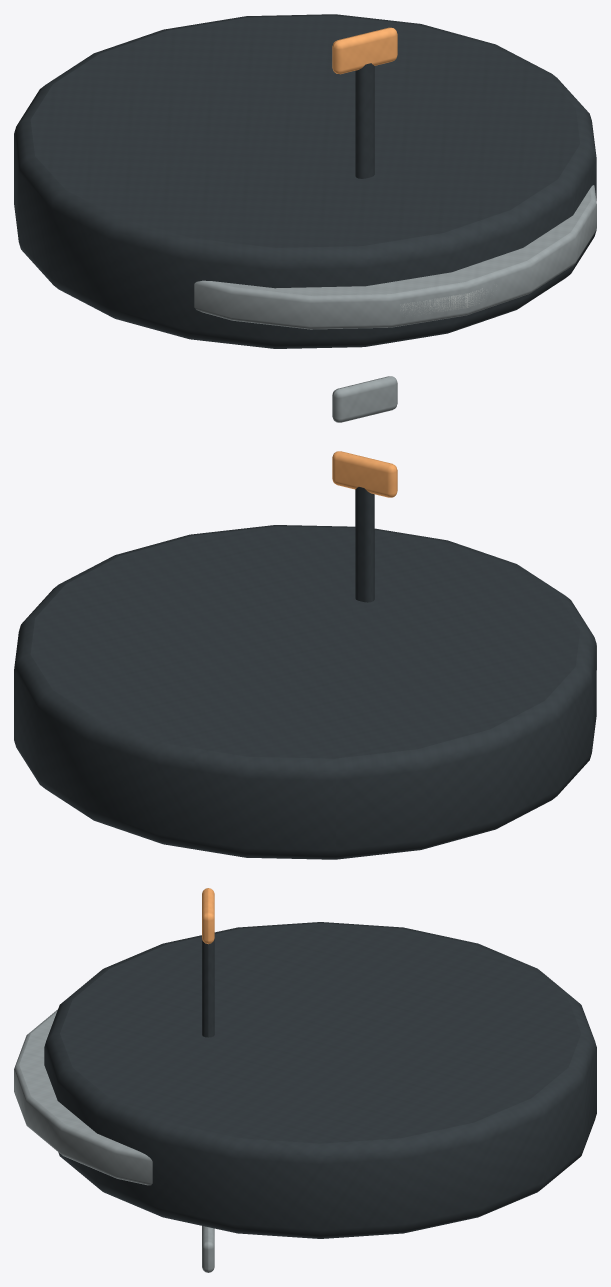
File: WallClock.glb
The picture shows the model from 3 angles, top to bottom: view 1: azimuth 30°, elevation 25°; view 2: azimuth 150°, elevation 25°; view 3: azimuth 270°, elevation 25°; orthographic projection. The views are drawn at different scales.
Visible parts, largest first — view 1: WallClock_Mesh; view 2: WallClock_Mesh; view 3: WallClock_Mesh.
Part boxes in pixels (x1,y1,x2,y2): WallClock_Mesh: (14, 14, 596, 422); WallClock_Mesh: (14, 451, 596, 859); WallClock_Mesh: (14, 888, 596, 1272).
Bounding box in the file's own units: 0.64 × 0.46 × 0.675.
Materials: 4 (4 with a texture image).
